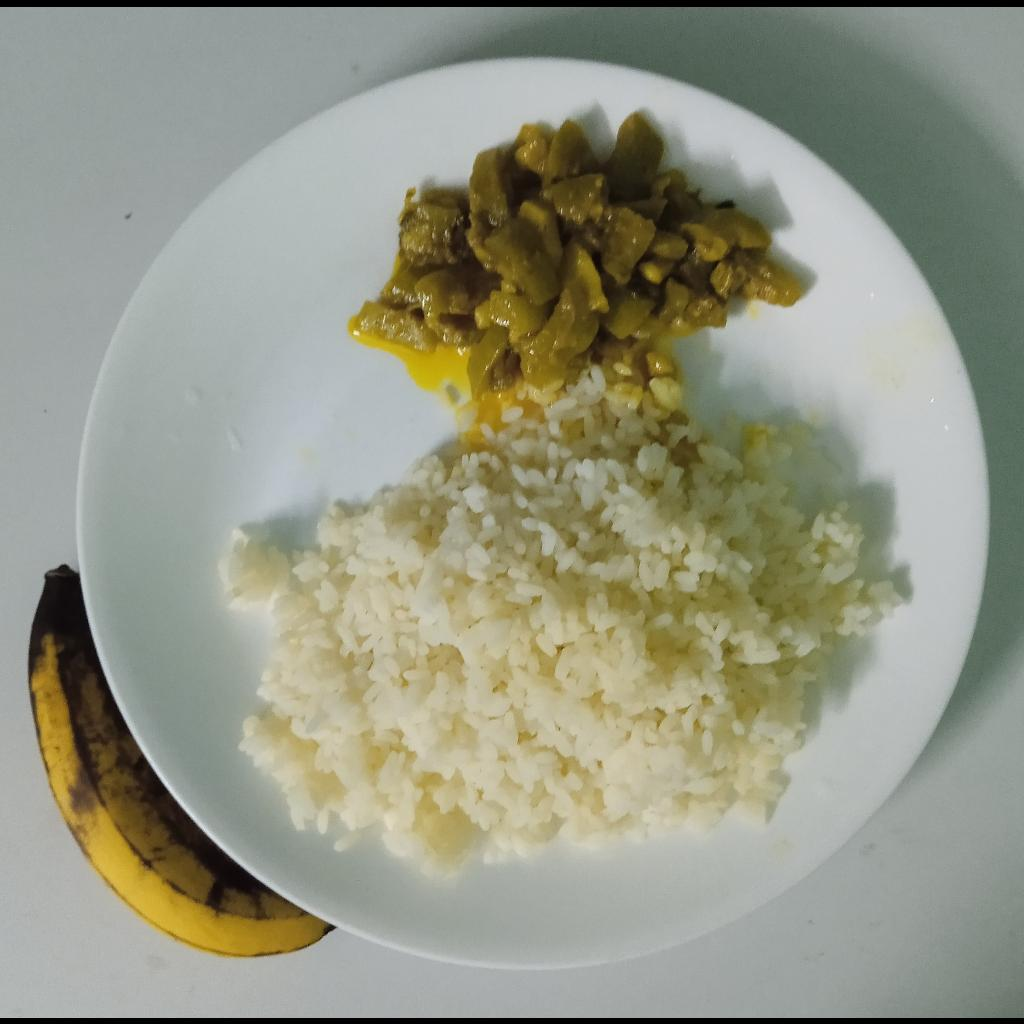banana: (27, 561, 336, 963)
dundol: (352, 108, 803, 397)
rice: (221, 360, 905, 883)
